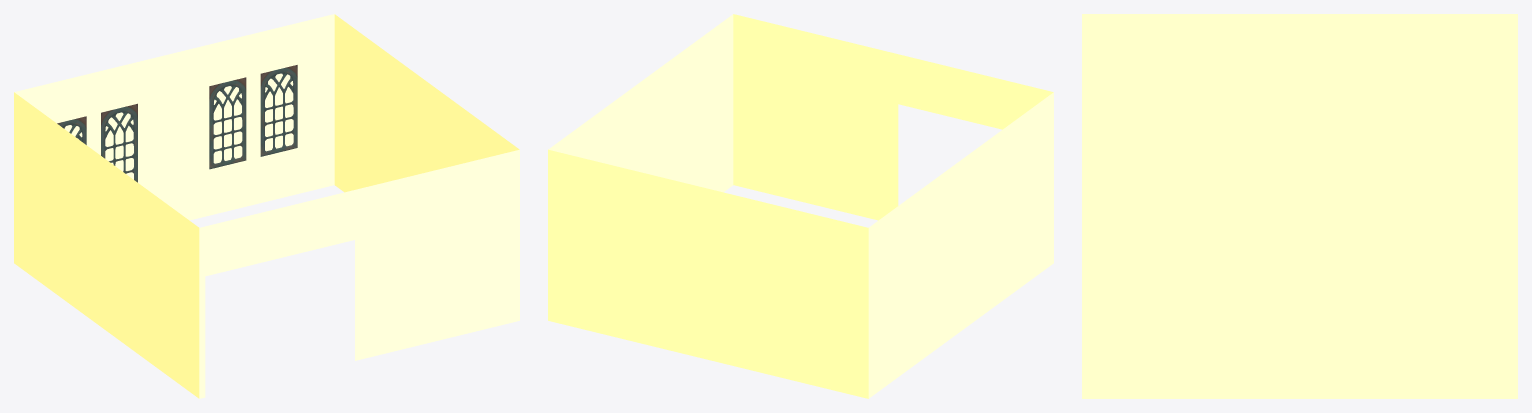
The model's file is Homeworld_Interior_Md_Room_I_Filling_01_Vo.fbx.
The picture shows the model from 3 angles, left to right: view 1: azimuth 30°, elevation 25°; view 2: azimuth 150°, elevation 25°; view 3: azimuth 270°, elevation 25°; orthographic projection. The views are drawn at different scales.
Parts seen in each view (by area): view 1: Homeworld_Interior_Md_Room_I_Filling_01_Vo; view 2: Homeworld_Interior_Md_Room_I_Filling_01_Vo; view 3: Homeworld_Interior_Md_Room_I_Filling_01_Vo.
Part boxes in pixels (x1,y1,x2,y2): Homeworld_Interior_Md_Room_I_Filling_01_Vo: [14, 14, 519, 398]; Homeworld_Interior_Md_Room_I_Filling_01_Vo: [548, 14, 1053, 398]; Homeworld_Interior_Md_Room_I_Filling_01_Vo: [1082, 14, 1517, 398].
Size of the model in its own units: 9.79 by 5 by 9.81.
